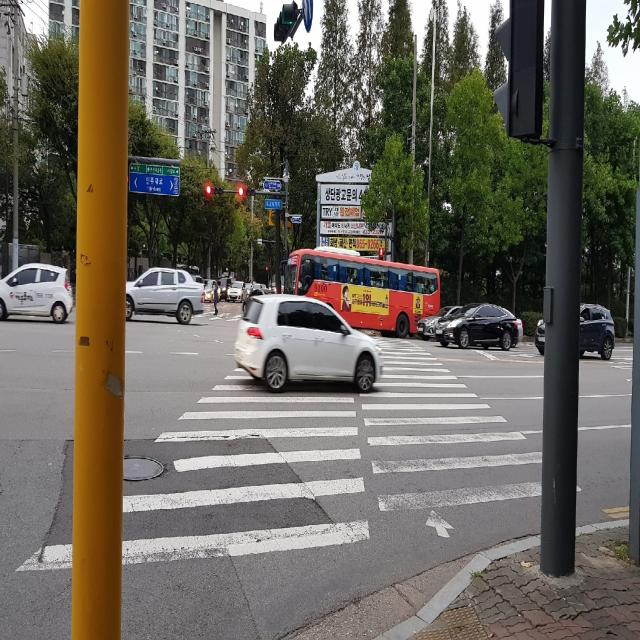횡단보도: (11, 335, 584, 576)
